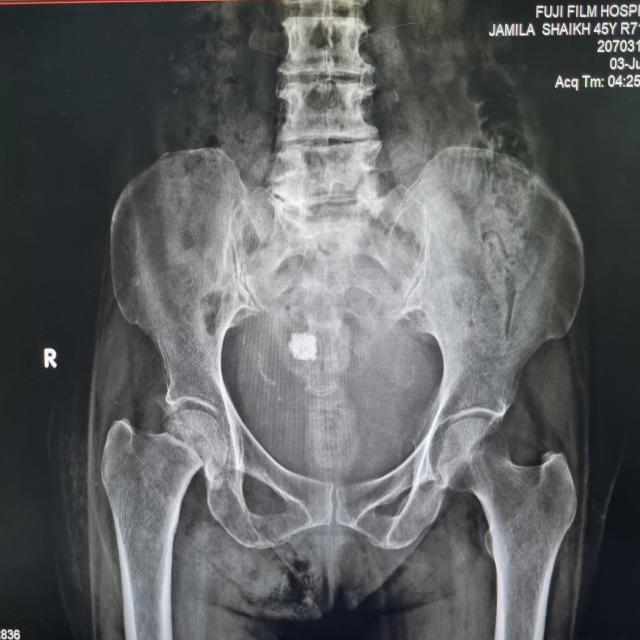normal-left: (436, 418, 577, 640)
right-neck: (101, 417, 205, 603), (162, 410, 228, 480)
